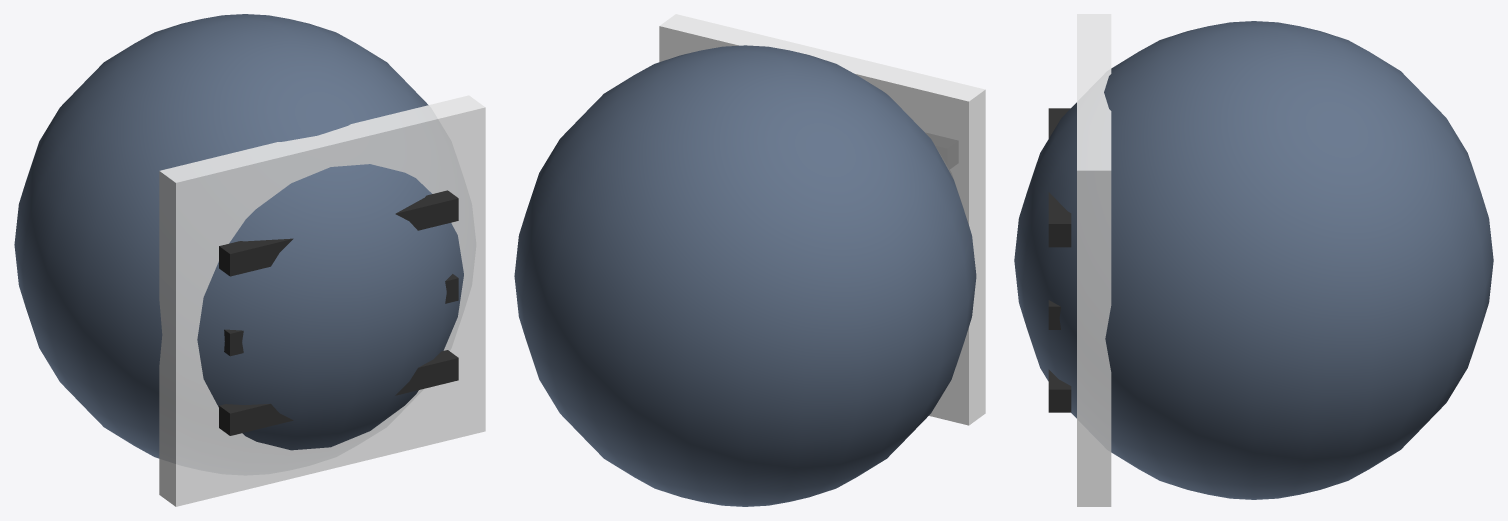
Rendered from hood-vent.glb.
3 views of the same model, side by side, from view 1: azimuth 30°, elevation 25°; view 2: azimuth 150°, elevation 25°; view 3: azimuth 270°, elevation 25° (orthographic). The views are drawn at different scales.
Visible parts, largest first — view 1: hood-vent; view 2: hood-vent; view 3: hood-vent.
Boxes of the visible parts, bbox=[...] form: hood-vent: bbox=[14, 14, 485, 506]; hood-vent: bbox=[514, 14, 985, 506]; hood-vent: bbox=[1014, 14, 1493, 506].
Bounding box in the file's own units: 0.84 × 0.84 × 0.84.
